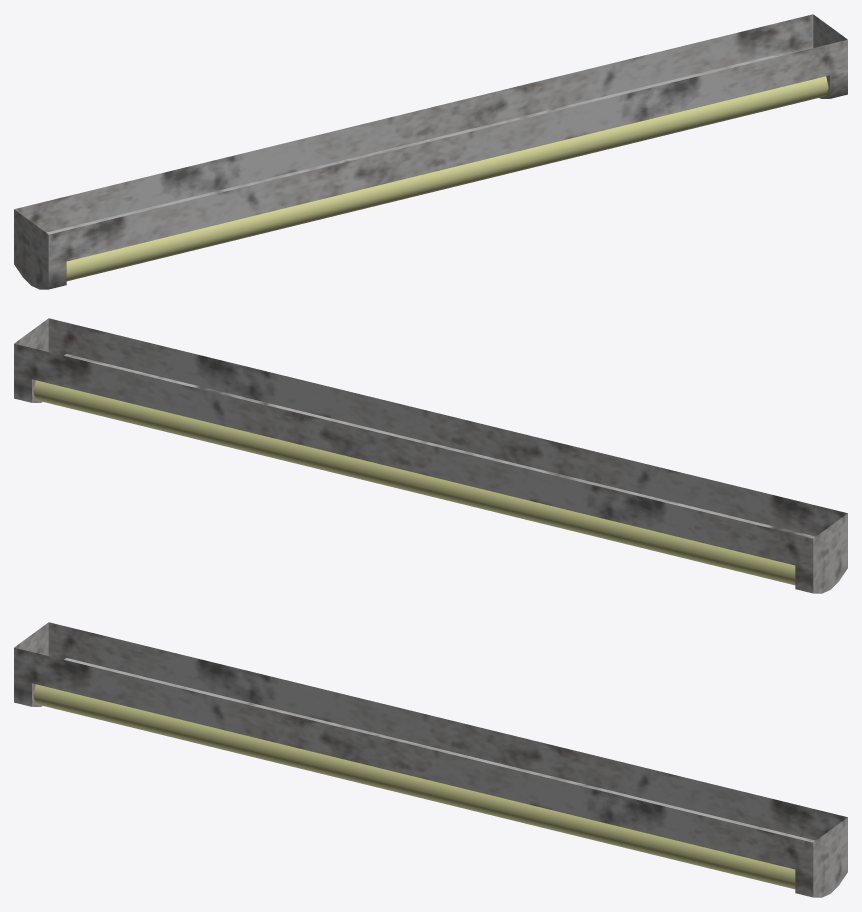
File: Lamp.fbx
3 views of the same model, one above another, from view 1: azimuth 30°, elevation 25°; view 2: azimuth 150°, elevation 25°; view 3: azimuth 330°, elevation 25° (orthographic).
Visible parts, largest first — view 1: Body, Lights; view 2: Body, Lights; view 3: Body, Lights.
Part boxes in pixels (bbox=[...]): Body: bbox=[14, 14, 847, 289]; Lights: bbox=[66, 76, 828, 281]; Body: bbox=[14, 318, 847, 593]; Lights: bbox=[33, 380, 795, 585]; Body: bbox=[14, 622, 847, 897]; Lights: bbox=[33, 684, 795, 889].
Bounding box in the file's own units: 1600 × 122 × 120.
Materials: 2 (2 with a texture image).
